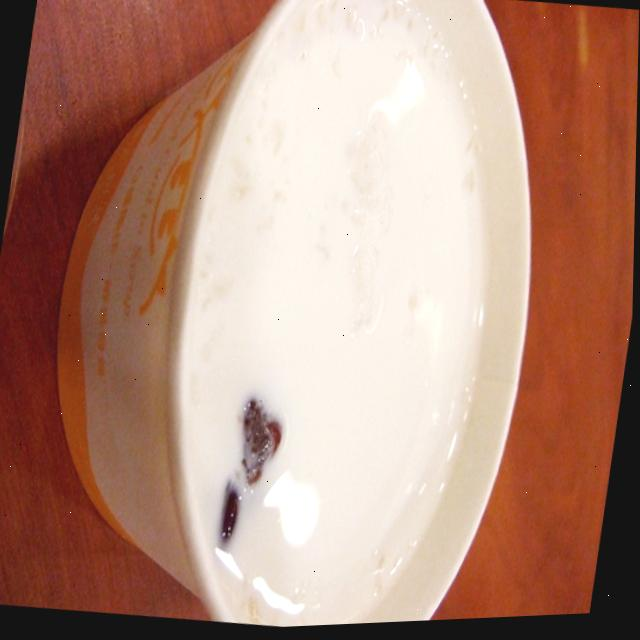米饭主食: (44, 0, 640, 638)
